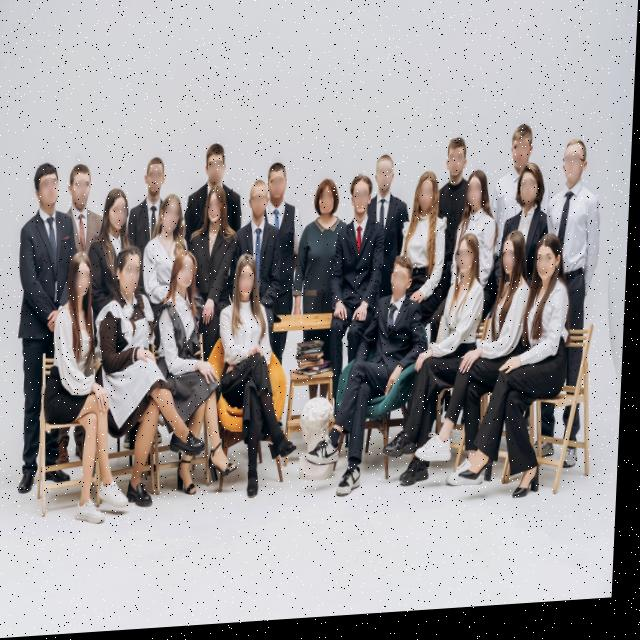Person: (301, 254, 434, 513), (461, 228, 583, 510), (90, 243, 215, 517), (377, 223, 494, 507), (419, 226, 536, 494), (44, 246, 143, 536), (7, 156, 70, 514), (218, 252, 303, 515), (543, 135, 608, 347), (238, 178, 293, 398), (339, 175, 384, 369), (191, 186, 243, 353), (302, 181, 354, 319), (144, 192, 198, 324), (400, 172, 453, 302), (262, 160, 304, 284), (494, 127, 550, 219), (194, 136, 245, 235), (454, 169, 505, 264), (66, 155, 108, 268), (435, 130, 474, 239), (506, 168, 554, 250), (106, 181, 140, 272), (137, 151, 167, 253), (370, 154, 404, 244)
